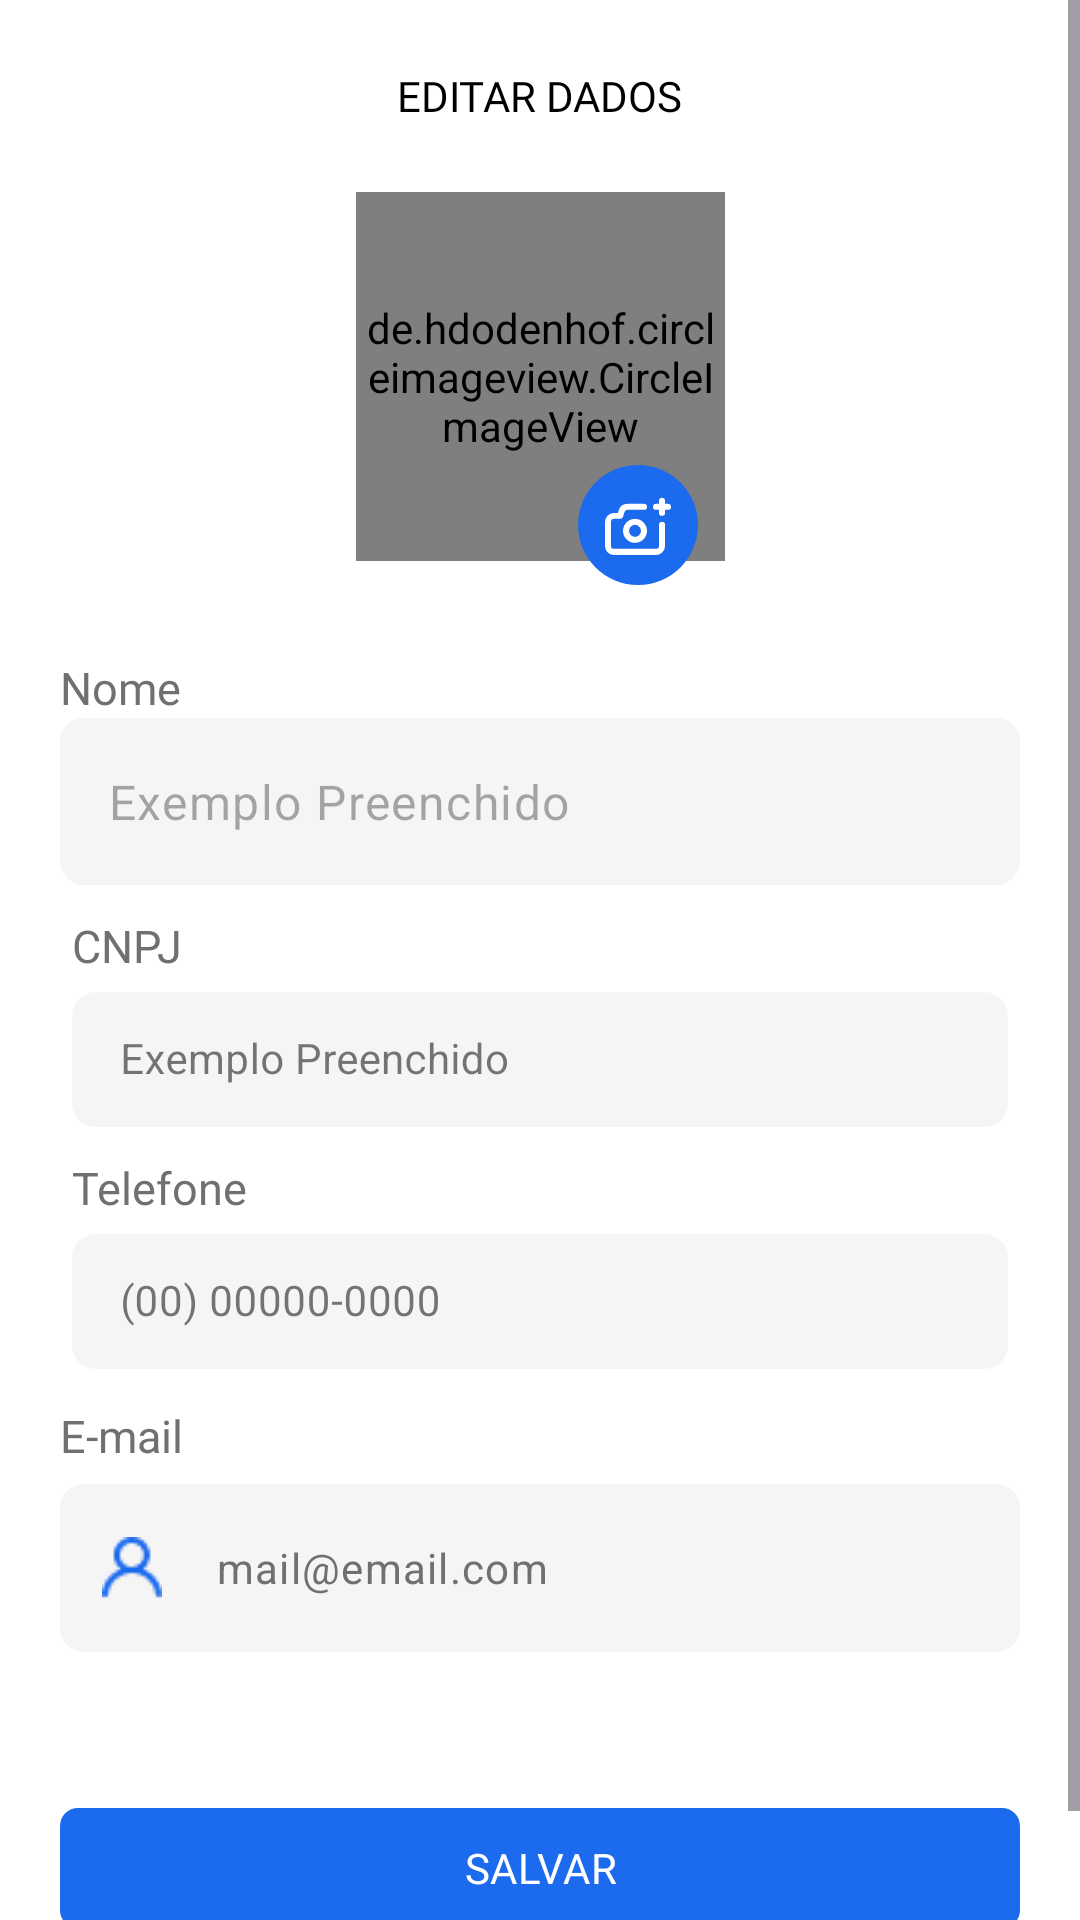

Where to tap for icons on this 1080 × 1920 app screen, as point (x, y):
cam: point (638, 534)
